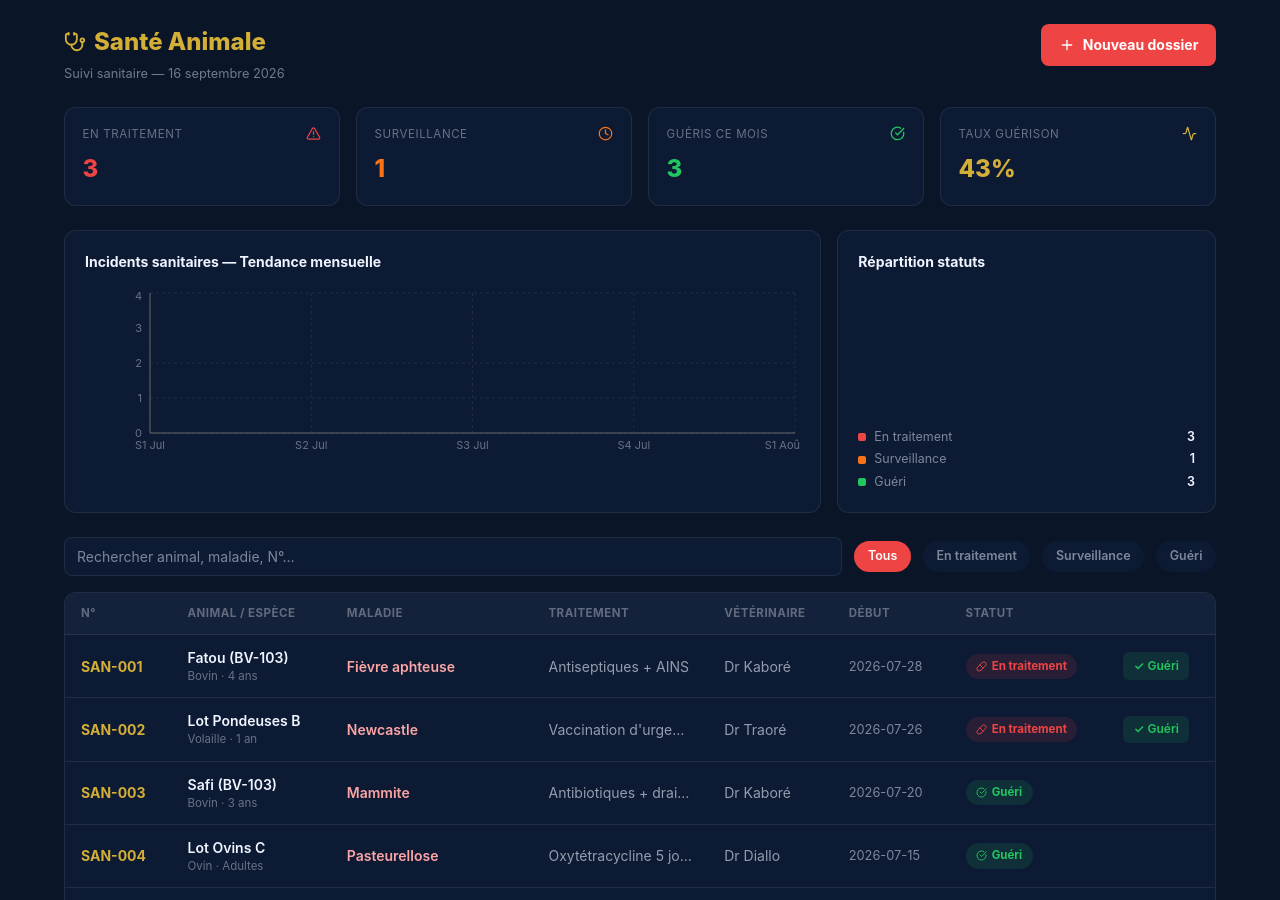
Test: SantePage › le filtre Guéri affiche seulement les dossiers guéris
This screenshot has width=1280, height=900.
Click the button "Guéri". click: (1186, 556)
box: top-left (1156, 540), bottom-right (1216, 572)
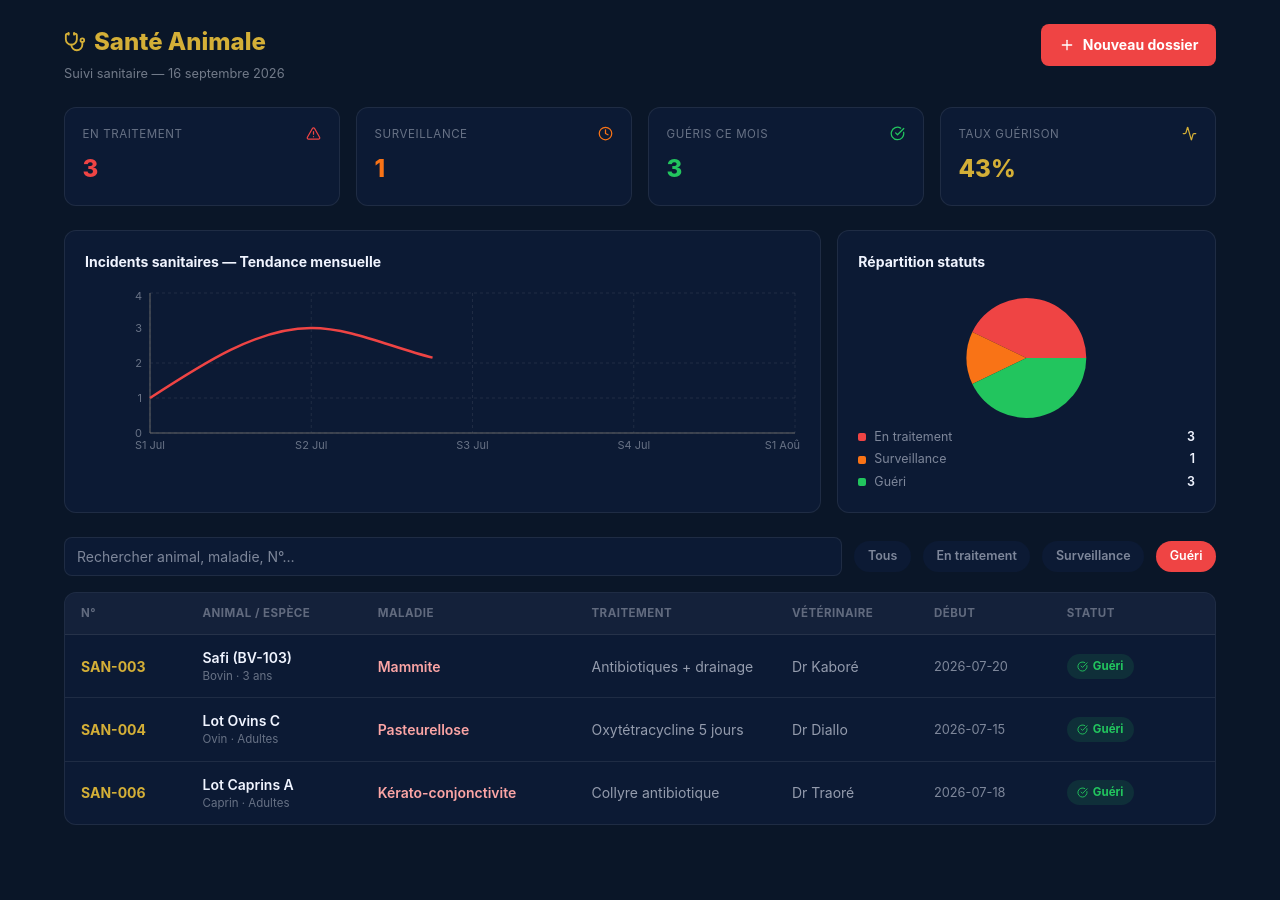
Expected: the text "SAN-003" is shown, top-left (65, 635), bottom-right (186, 698)
Result: the text "SAN-001" is gone
